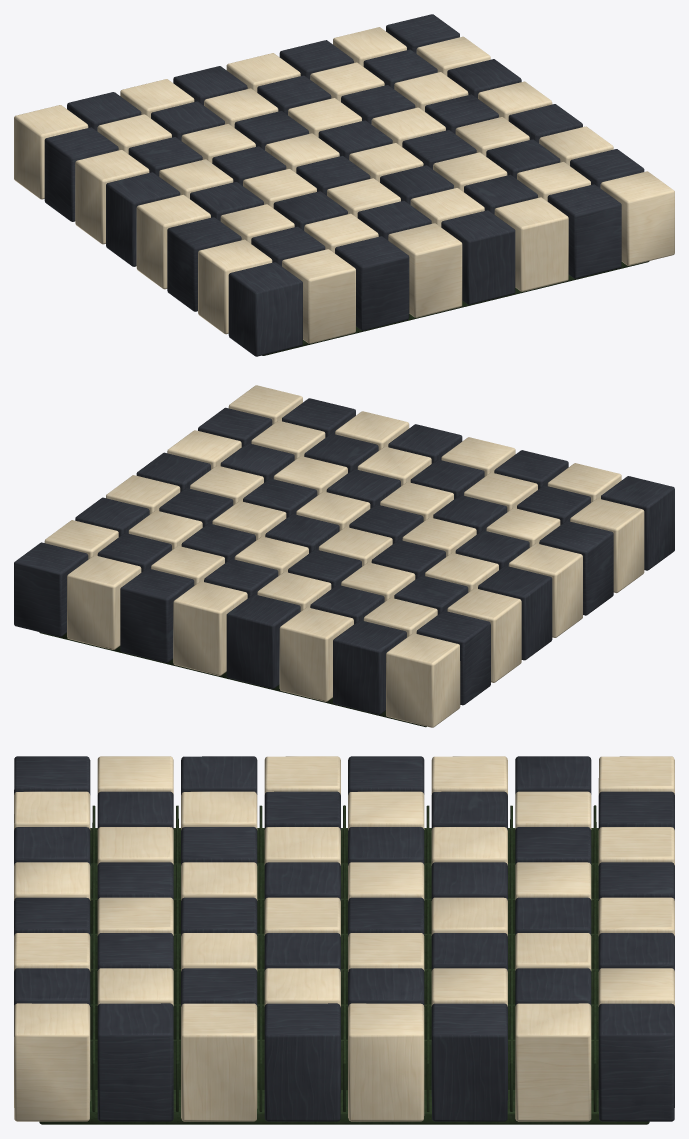
File: board.glb
The picture shows the model from 3 angles, top to bottom: view 1: azimuth 30°, elevation 25°; view 2: azimuth 150°, elevation 25°; view 3: azimuth 270°, elevation 25°; orthographic projection. The views are drawn at different scales.
Visible parts, largest first — view 1: square_a1, square_d1, square_e1, square_h1, square_c1, square_f1, square_g1, square_b1, square_a4, square_a7, square_a3, square_a2 (+53 smaller); view 2: square_a8, square_f8, square_g8, square_e8, square_d8, square_c8, square_b8, square_h8, square_a5, square_a2, square_a6, square_a1 (+53 smaller); view 3: square_h2, square_h7, square_h4, square_h5, square_h8, square_h3, square_h1, square_h6, base, square_g1, square_c1, square_f1 (+67 smaller).
Part boxes in pixels (x1,y1,x2,y2): square_a1: [228, 262, 302, 356]; square_d1: [388, 223, 462, 317]; square_e1: [441, 210, 515, 304]; square_h1: [600, 171, 674, 265]; square_c1: [335, 236, 409, 330]; square_f1: [494, 197, 568, 291]; square_g1: [547, 184, 621, 278]; square_b1: [282, 249, 355, 343]; square_a4: [136, 194, 210, 289]; square_a7: [44, 127, 118, 221]; square_a3: [167, 217, 241, 311]; square_a2: [198, 239, 272, 334]; square_a8: [386, 633, 460, 727]; square_f8: [120, 568, 194, 662]; square_g8: [67, 555, 141, 649]; square_e8: [173, 581, 247, 675]; square_d8: [226, 594, 300, 688]; square_c8: [279, 607, 353, 701]; square_b8: [333, 620, 406, 714]; square_h8: [14, 542, 88, 636]; square_a5: [478, 566, 552, 660]; square_a2: [570, 498, 644, 593]; square_a6: [447, 588, 521, 682]; square_a1: [601, 476, 674, 570]; square_h2: [97, 1003, 173, 1121]; square_h7: [515, 1003, 591, 1121]; square_h4: [264, 1003, 340, 1121]; square_h5: [348, 1003, 424, 1121]; square_h8: [598, 1003, 674, 1121]; square_h3: [181, 1003, 257, 1121]; square_h1: [14, 1003, 90, 1121]; square_h6: [431, 1003, 507, 1121]; base: [39, 1089, 649, 1124]; square_g1: [14, 968, 90, 1036]; square_c1: [14, 827, 90, 865]; square_f1: [14, 933, 90, 971].
Size of the model in its own units: 7.91 by 1.35 by 7.91.
Materials: 3 (3 with a texture image).
